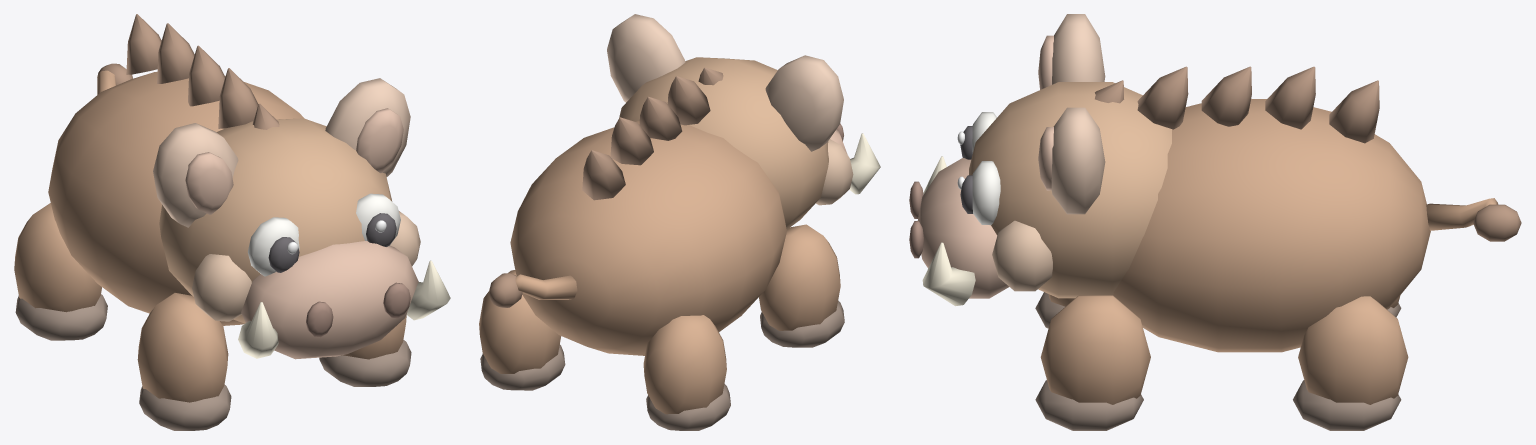
File: zwijn.glb
3 views of the same model, side by side, from view 1: azimuth 30°, elevation 25°; view 2: azimuth 150°, elevation 25°; view 3: azimuth 270°, elevation 25° (orthographic). The views are drawn at different scales.
Parts seen in each view (by area): view 1: zwijn; view 2: zwijn; view 3: zwijn.
Boxes of the visible parts, x1,y1,x2,y2 form: zwijn: [14, 14, 450, 430]; zwijn: [479, 14, 880, 430]; zwijn: [909, 14, 1521, 430].
Size of the model in its own units: 0.714 by 0.8 by 1.42.
